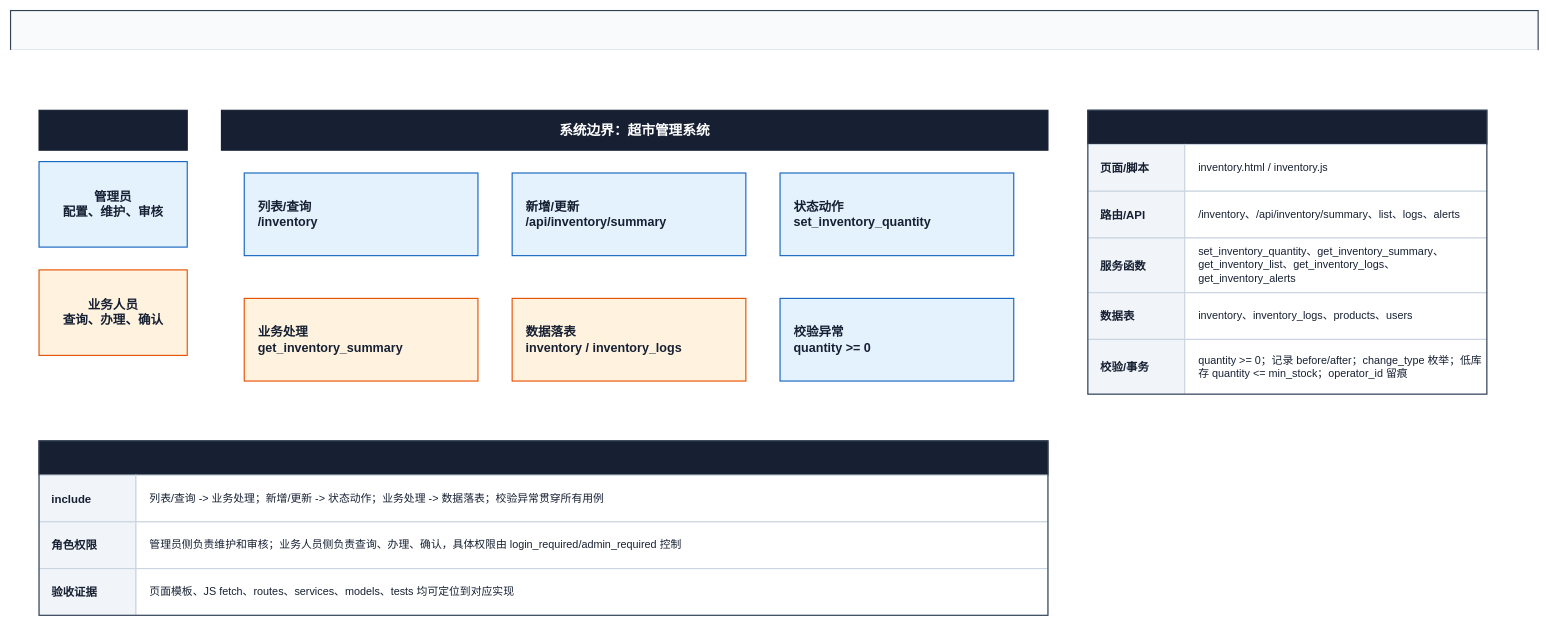
This 1548x625 diagram has some shape labels left out. Here are the shapes that lost their labels. From the top down, the centre of each, then its label:
At pixel 774 30: "库存管理用例图".
At pixel 774 62: "模块级用例矩阵｜角色｜用例｜实现入口｜校验点".
At pixel 113 129: "角色".
At pixel 1287 127: "实现明细".
At pixel 543 457: "用例依赖".
